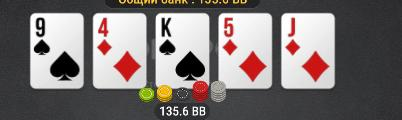4d: (94, 15, 145, 87)
5d: (219, 15, 271, 88)
9s: (32, 14, 82, 87)
Jd: (283, 14, 332, 87)
Ks: (157, 14, 209, 86)
